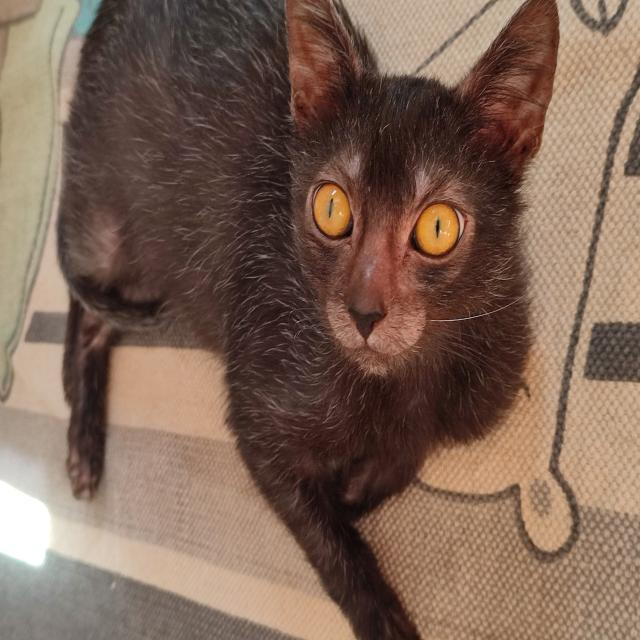Lykoi: (51, 0, 564, 640)
